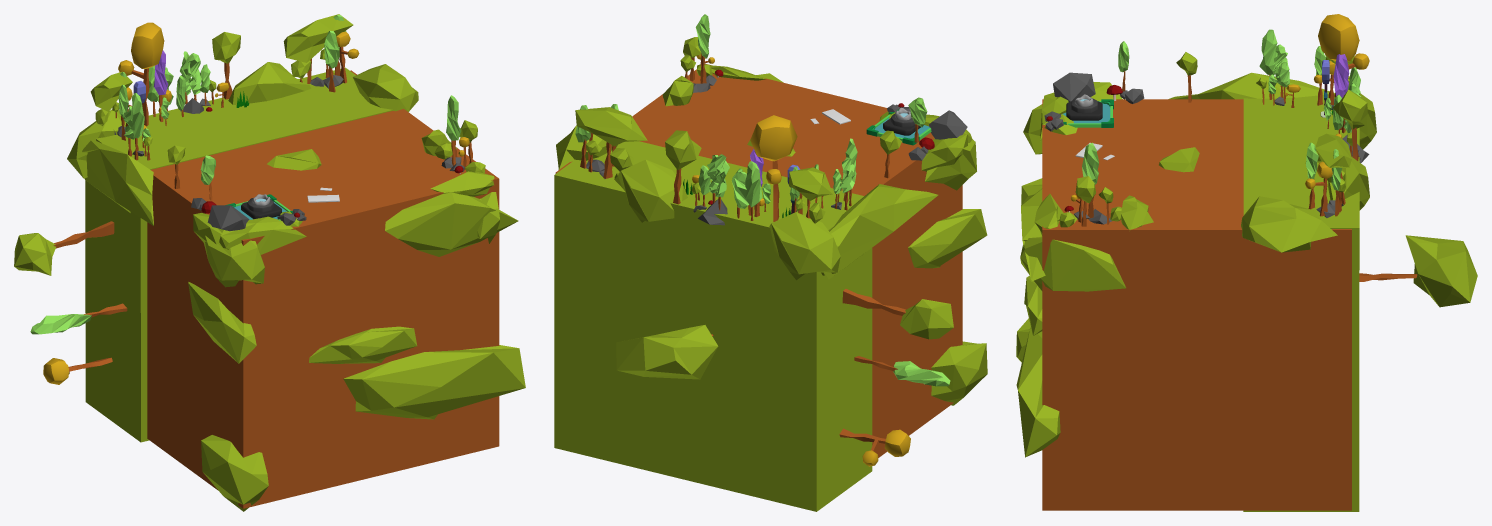
3 renders of one model, left to right at view 1: azimuth 30°, elevation 25°; view 2: azimuth 150°, elevation 25°; view 3: azimuth 270°, elevation 25°, orthographic. The views are drawn at different scales.
Parts seen in each view (by area): view 1: Box326, Box332, GeoSphere198, GeoSphere199, GeoSphere208, GeoSphere202, GeoSphere206, GeoSphere201, GeoSphere195, GeoSphere207, GeoSphere196, GeoSphere193 (+13 smaller); view 2: Box332, Box326, GeoSphere208, GeoSphere209, GeoSphere197, GeoSphere196, GeoSphere201, GeoSphere202, GeoSphere153, GeoSphere150, Box347, GeoSphere195 (+10 smaller); view 3: Box326, Box332, GeoSphere200, GeoSphere209, GeoSphere207, GeoSphere198, GeoSphere208, Box347, GeoSphere199, GeoSphere196, GeoSphere153, GeoSphere173 (+11 smaller).
Part boxes in pixels (bbox=[...]): Box326: bbox=[147, 70, 499, 508]; Box332: bbox=[85, 67, 392, 442]; GeoSphere198: bbox=[343, 345, 525, 419]; GeoSphere199: bbox=[385, 192, 518, 256]; GeoSphere208: bbox=[82, 140, 153, 225]; GeoSphere202: bbox=[201, 435, 268, 511]; GeoSphere206: bbox=[309, 326, 417, 363]; GeoSphere201: bbox=[188, 282, 256, 363]; GeoSphere195: bbox=[204, 228, 264, 287]; GeoSphere207: bbox=[353, 64, 418, 111]; GeoSphere196: bbox=[228, 62, 311, 104]; GeoSphere193: bbox=[219, 216, 306, 254]; Box332: bbox=[554, 141, 872, 511]; Box326: bbox=[555, 63, 962, 457]; GeoSphere208: bbox=[823, 184, 938, 279]; GeoSphere209: bbox=[616, 325, 718, 379]; GeoSphere197: bbox=[769, 212, 840, 280]; GeoSphere196: bbox=[614, 159, 687, 222]; GeoSphere201: bbox=[908, 209, 987, 268]; GeoSphere202: bbox=[931, 341, 987, 405]; GeoSphere153: bbox=[575, 107, 647, 146]; GeoSphere150: bbox=[900, 299, 953, 339]; Box347: bbox=[750, 115, 797, 161]; GeoSphere195: bbox=[925, 139, 976, 190]; Box326: bbox=[1042, 99, 1351, 510]; Box332: bbox=[1243, 95, 1359, 511]; GeoSphere200: bbox=[1020, 236, 1125, 291]; GeoSphere209: bbox=[1405, 235, 1477, 307]; GeoSphere207: bbox=[1241, 196, 1337, 252]; GeoSphere198: bbox=[1016, 326, 1060, 457]; GeoSphere208: bbox=[1168, 72, 1334, 99]; Box347: bbox=[1318, 14, 1359, 61]; GeoSphere199: bbox=[1021, 188, 1045, 281]; GeoSphere196: bbox=[1328, 157, 1369, 210]; GeoSphere153: bbox=[1315, 133, 1351, 167]; GeoSphere173: bbox=[1053, 72, 1095, 101].
Size of the model in its own units: 468 by 447 by 424.
Materials: 21 (4 with a texture image).
